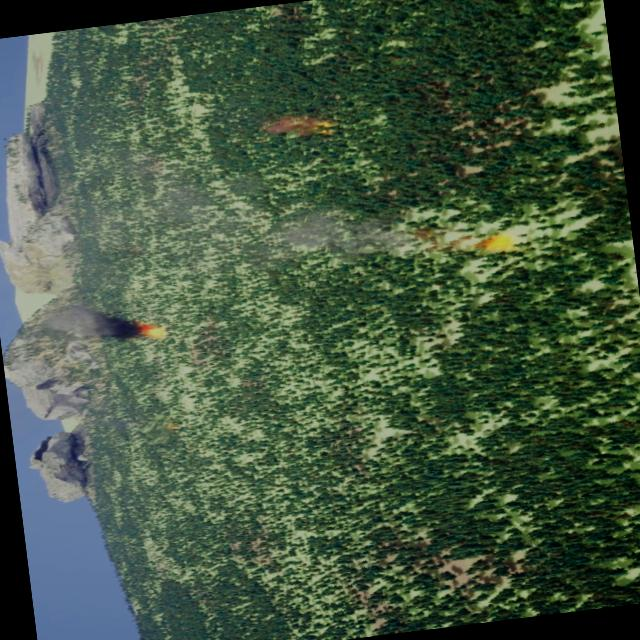fire: (465, 230, 511, 252), (134, 320, 160, 340), (306, 118, 332, 135)
smoke: (111, 144, 448, 294), (41, 297, 136, 348), (258, 109, 316, 138)
